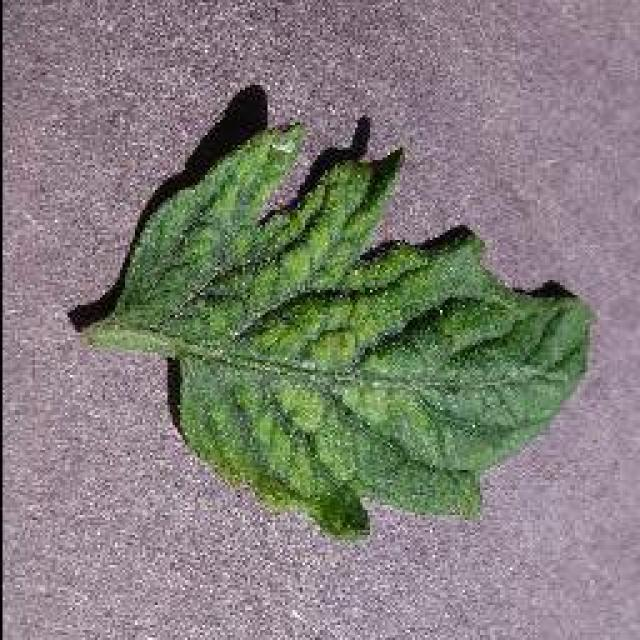Tomato___Tomato_mosaic_virus: (88, 122, 588, 532)
